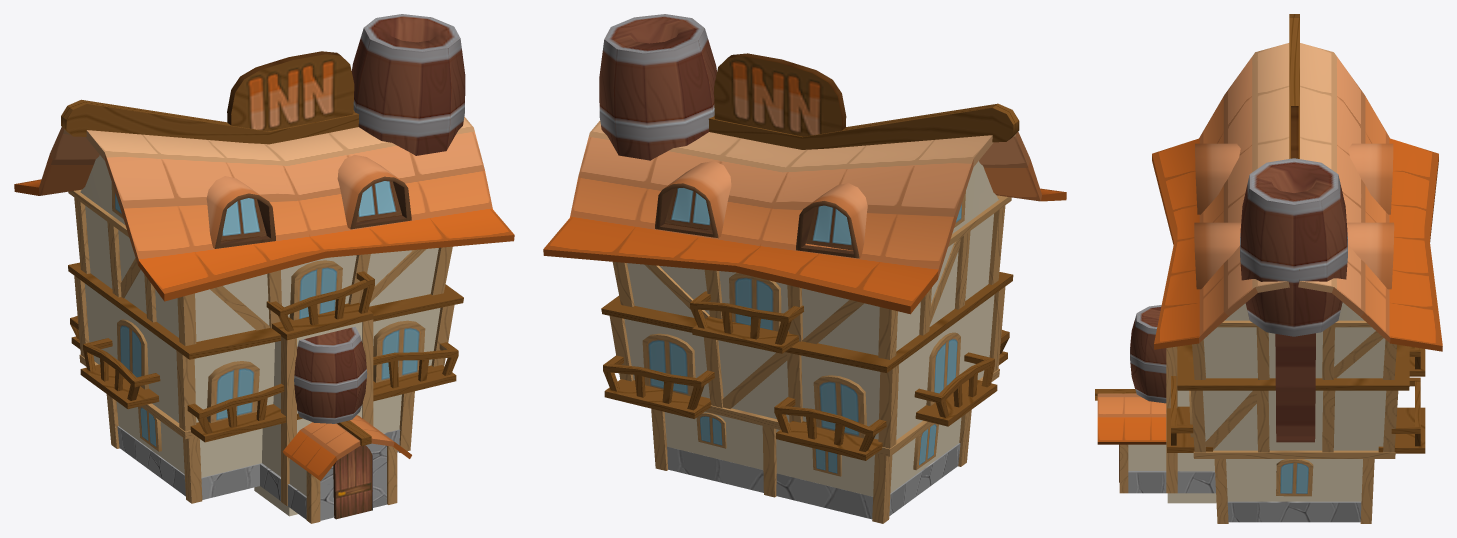
File: building_inn_lv5.FBX
3 renders of one model, left to right at view 1: azimuth 30°, elevation 25°; view 2: azimuth 150°, elevation 25°; view 3: azimuth 270°, elevation 25°, orthographic. The views are drawn at different scales.
Visible parts, largest first — view 1: building_inn_lv5, building_inn_roof_lv5, building_inn_main_lv5; view 2: building_inn_lv5, building_inn_roof_lv5, building_inn_main_lv5; view 3: building_inn_lv5, building_inn_roof_lv5, building_inn_main_lv5.
Part boxes in pixels (x1,y1,x2,y2): building_inn_lv5: (61,14,465,523); building_inn_roof_lv5: (14,116,514,480); building_inn_main_lv5: (68,155,463,477); building_inn_lv5: (599,14,1019,523); building_inn_roof_lv5: (543,120,1066,314); building_inn_main_lv5: (601,161,1013,496); building_inn_lv5: (1095,14,1425,523); building_inn_roof_lv5: (1097,43,1442,444); building_inn_main_lv5: (1177,302,1409,501).
Size of the model in its own units: 584 by 567 by 466.
